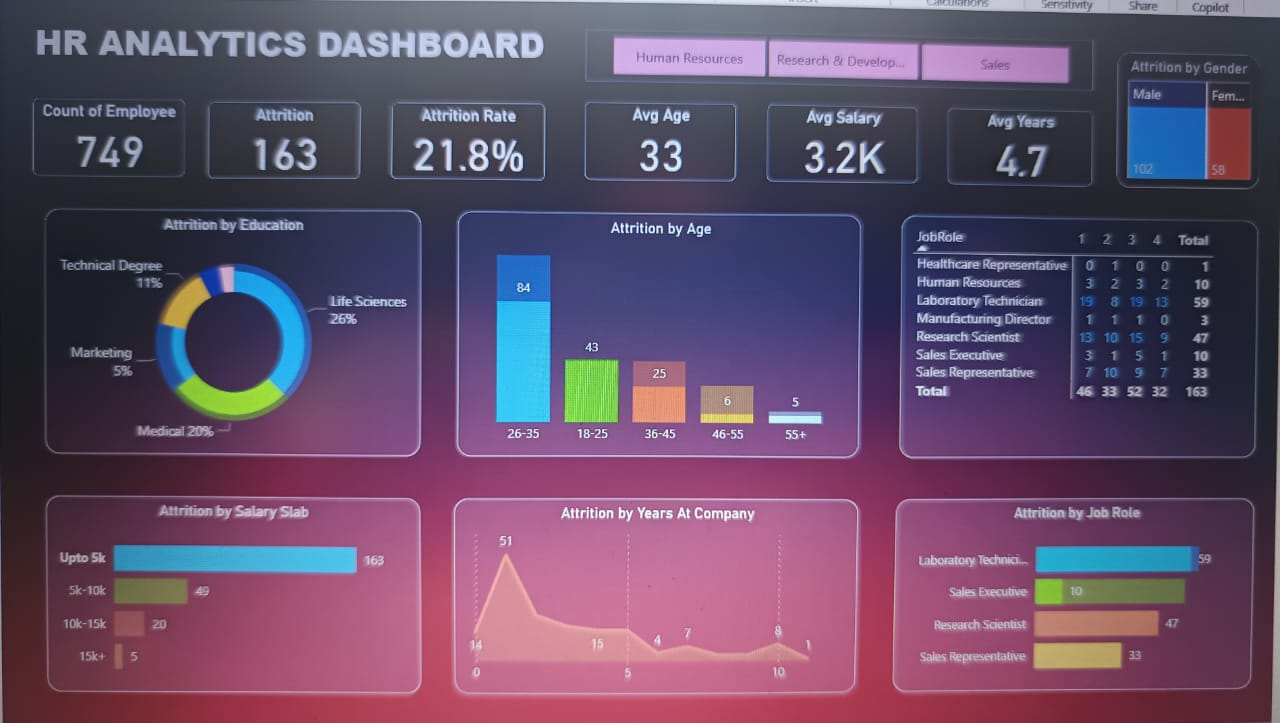

The dashboard page shown, as its layout file describes it:
{"tool":"powerbi","page":{"name":"Page 1","canvas":[1280,720],"ordinal":0},"visuals":[{"type":"card","title":"Count of Employee","fields":{"Values":["CountNonNull(HR_Analytics.EmpID)"]},"box":[33.3,98.8,148.8,76.2],"z":0},{"type":"card","title":"Attrition","fields":{"Values":["Sum(HR_Analytics.AttritionCount)"]},"box":[204.8,101.2,150,75],"z":1},{"type":"card","title":"Attrition Rate","fields":{"Values":["HR_Analytics.AttritionRate"]},"box":[385.7,101.2,150,75],"z":2},{"type":"card","title":"Avg Age","fields":{"Values":["Avg(HR_Analytics.Age)"]},"box":[575,98.8,148.8,76.2],"z":3},{"type":"card","title":"Avg Salary","fields":{"Values":["Avg(HR_Analytics.MonthlyIncome)"]},"box":[754.8,98.8,150,76.2],"z":4},{"type":"card","title":"Avg Years","fields":{"Values":["Avg(HR_Analytics.YearsAtCompany)"]},"box":[935.7,98.8,148.8,76.2],"z":5},{"type":"donutChart","title":"Attrition by Education","fields":{"Category":["HR_Analytics.EducationField"],"Y":["Sum(HR_Analytics.AttritionCount)"]},"box":[45.2,207.1,370.2,240.5],"z":6},{"type":"columnChart","title":"Attrition by Age","fields":{"Category":["HR_Analytics.AgeGroup"],"Y":["Sum(HR_Analytics.AttritionCount)"]},"box":[451.2,207.1,397.6,240.5],"z":7},{"type":"pivotTable","fields":{"Rows":["HR_Analytics.JobRole"],"Columns":["HR_Analytics.JobSatisfaction"],"Values":["Sum(HR_Analytics.AttritionCount)"]},"box":[889.3,207.1,367.9,240.5],"z":8},{"type":"barChart","title":"Attrition by Salary Slab","fields":{"Category":["HR_Analytics.SalarySlab"],"Y":["Sum(HR_Analytics.AttritionCount)"]},"box":[45.2,489.3,370.2,195.2],"z":9},{"type":"barChart","title":"Attrition by Job Role","fields":{"Category":["HR_Analytics.JobRole"],"Y":["Sum(HR_Analytics.AttritionCount)"]},"box":[886.9,489.3,370.2,195.2],"z":10},{"type":"areaChart","title":"Attrition by Years At Company","fields":{"Category":["HR_Analytics.YearsAtCompany"],"Y":["Sum(HR_Analytics.AttritionCount)"]},"box":[448.8,489.3,400,195.2],"z":11},{"type":"treemap","title":"Attrition by Gender","fields":{"Group":["HR_Analytics.Gender"],"Values":["Sum(HR_Analytics.AttritionCount)"]},"box":[1109.5,39.3,147.6,135.7],"z":12},{"type":"slicer","fields":{"Values":["HR_Analytics.Department"]},"box":[575,27.4,509.5,51.2],"z":13},{"type":"textbox","box":[23.8,16.7,522.6,61.9],"z":14}]}

Visuals, with their boxes in screenshot pixels (x1, y1, x2, y2):
"Count of Employee" card: BBox(24, 98, 176, 176)
"Attrition" card: BBox(199, 100, 353, 177)
"Attrition Rate" card: BBox(384, 100, 538, 177)
"Avg Age" card: BBox(578, 98, 730, 176)
"Avg Salary" card: BBox(762, 98, 915, 176)
"Avg Years" card: BBox(947, 98, 1099, 176)
"Attrition by Education" donutChart: BBox(36, 208, 415, 454)
"Attrition by Age" columnChart: BBox(451, 208, 858, 454)
pivotTable - HR_Analytics.JobRole x HR_Analytics.JobSatisfaction: BBox(899, 208, 1275, 454)
"Attrition by Salary Slab" barChart: BBox(36, 497, 415, 697)
"Attrition by Job Role" barChart: BBox(897, 497, 1275, 697)
"Attrition by Years At Company" areaChart: BBox(449, 497, 858, 697)
"Attrition by Gender" treemap: BBox(1124, 37, 1275, 176)
slicer - HR_Analytics.Department: BBox(578, 25, 1099, 77)
textbox: BBox(14, 14, 549, 77)
